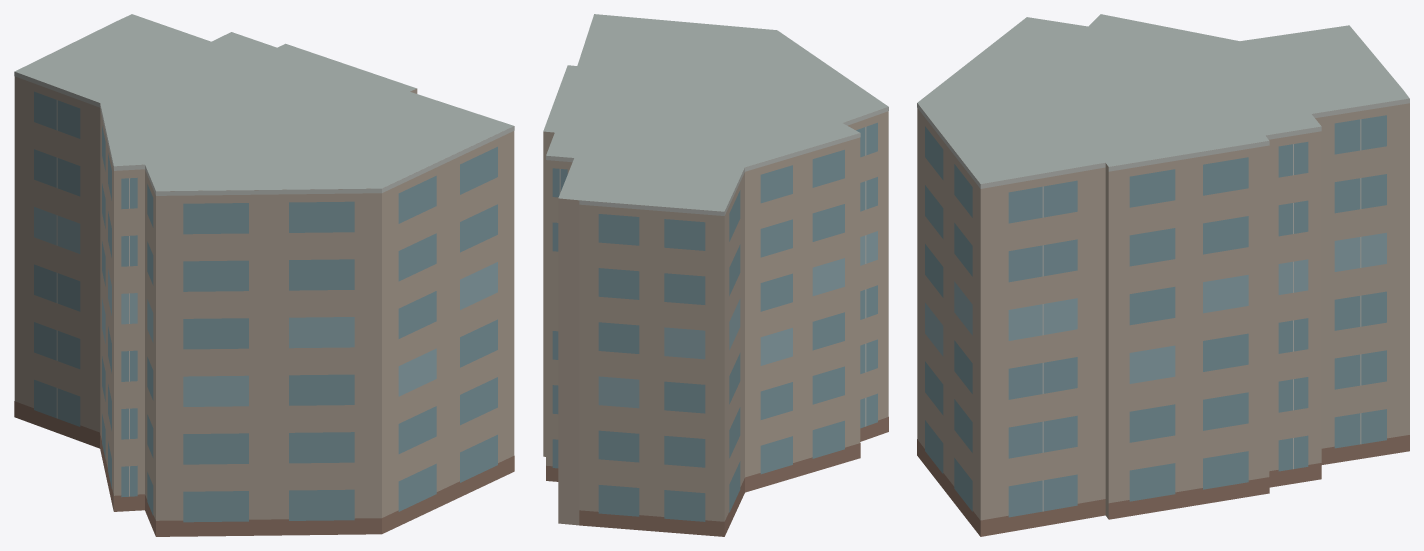
File: survey-upis-32854751.glb
The picture shows the model from 3 angles, left to right: view 1: azimuth 30°, elevation 25°; view 2: azimuth 150°, elevation 25°; view 3: azimuth 270°, elevation 25°; orthographic projection. The views are drawn at different scales.
Parts seen in each view (by area): view 1: survey-upis-32854751.tmp; view 2: survey-upis-32854751.tmp; view 3: survey-upis-32854751.tmp.
Part boxes in pixels (left/top/right/bottom): survey-upis-32854751.tmp: left=14, top=14, right=514, bottom=536; survey-upis-32854751.tmp: left=543, top=14, right=888, bottom=536; survey-upis-32854751.tmp: left=917, top=14, right=1409, bottom=536.
Size of the model in its own units: 18.8 by 18.15 by 22.98.
